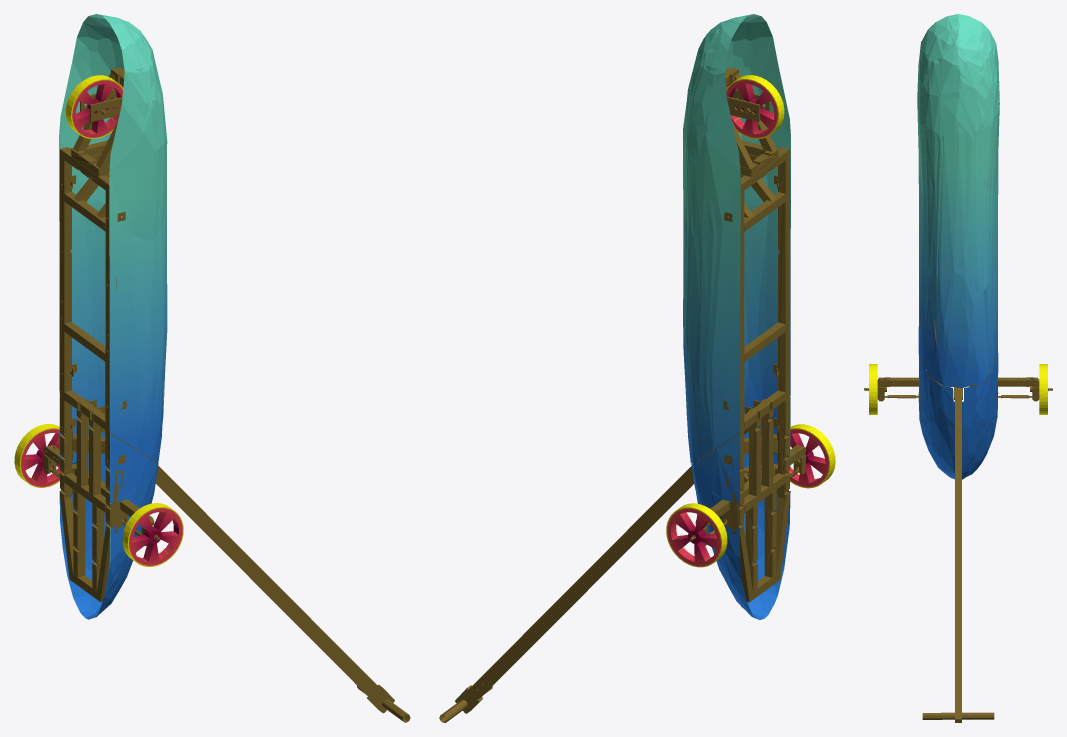
Rendered from buggy.dae.
3 views of the same model, side by side, from view 1: azimuth 30°, elevation 25°; view 2: azimuth 150°, elevation 25°; view 3: azimuth 270°, elevation 25° (orthographic). The views are drawn at different scales.
Visible parts, largest first — view 1: 3MF Object.015, 3MF Object.207, 3MF Object.245, 3MF Object.140, 3MF Object.223; view 2: 3MF Object.015, 3MF Object.207, 3MF Object.223, 3MF Object.140, 3MF Object.245; view 3: 3MF Object.015, 3MF Object.207, 3MF Object.223, 3MF Object.245.
Boxes of the visible parts, x1,y1,x2,y2 form: 3MF Object.015: [59, 14, 167, 619]; 3MF Object.207: [44, 67, 410, 722]; 3MF Object.245: [122, 503, 183, 566]; 3MF Object.140: [65, 75, 123, 139]; 3MF Object.223: [14, 424, 61, 487]; 3MF Object.015: [683, 14, 790, 619]; 3MF Object.207: [439, 67, 806, 722]; 3MF Object.223: [666, 503, 727, 567]; 3MF Object.140: [726, 75, 784, 139]; 3MF Object.245: [788, 424, 835, 488]; 3MF Object.015: [917, 14, 999, 479]; 3MF Object.207: [864, 341, 1052, 722]; 3MF Object.223: [1039, 364, 1047, 414]; 3MF Object.245: [869, 364, 877, 414].
Size of the model in its own units: 1.04 by 0.6669 by 2.34.
5 materials, 5 textured.
